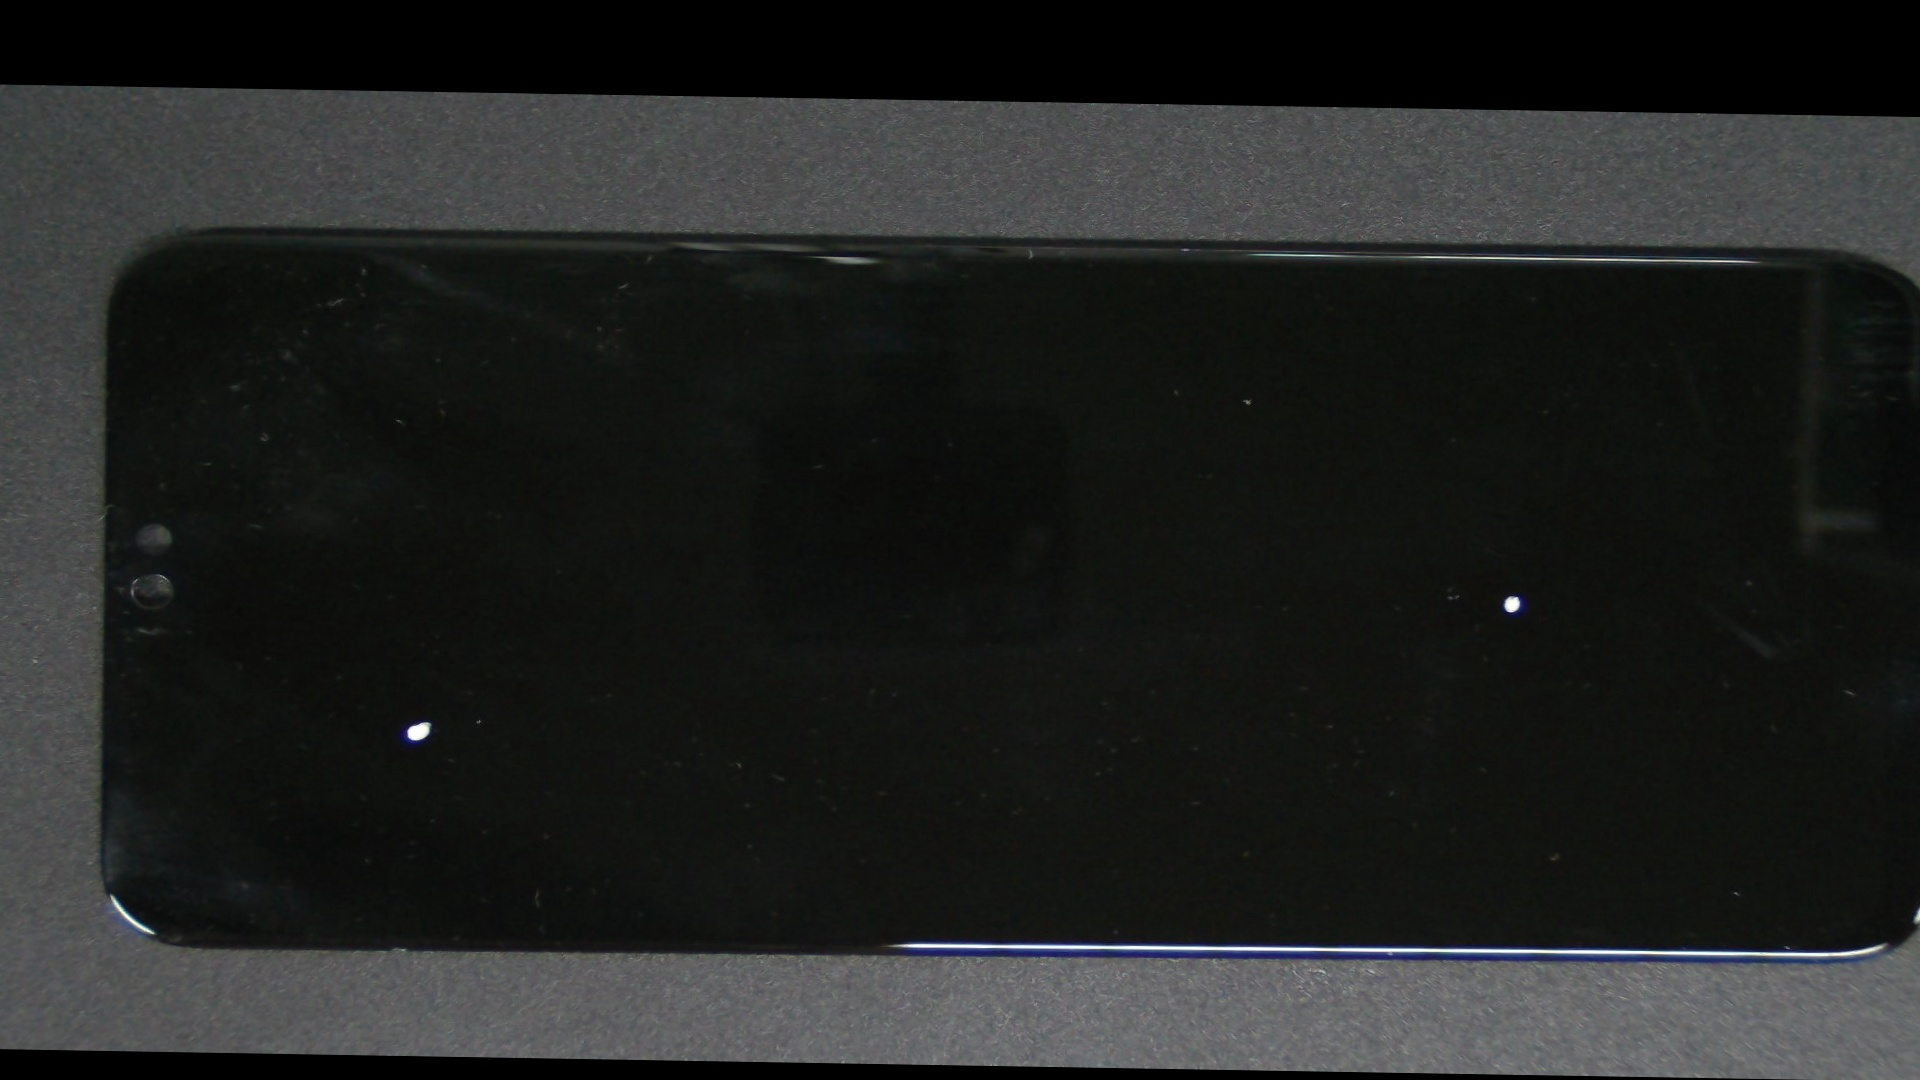oil: (744, 338, 1920, 848), (200, 402, 661, 1039)
